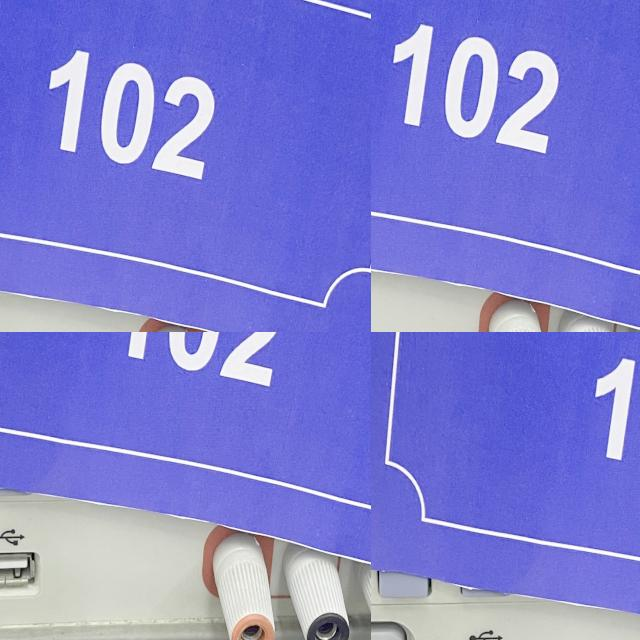Card: (0, 332, 290, 640), (371, 0, 640, 332), (371, 332, 640, 640), (0, 4, 93, 332)
